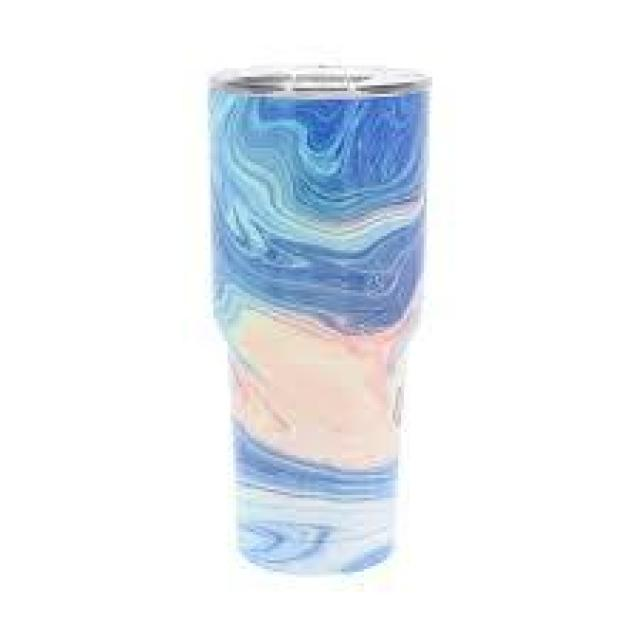bottle: (205, 63, 435, 580)
